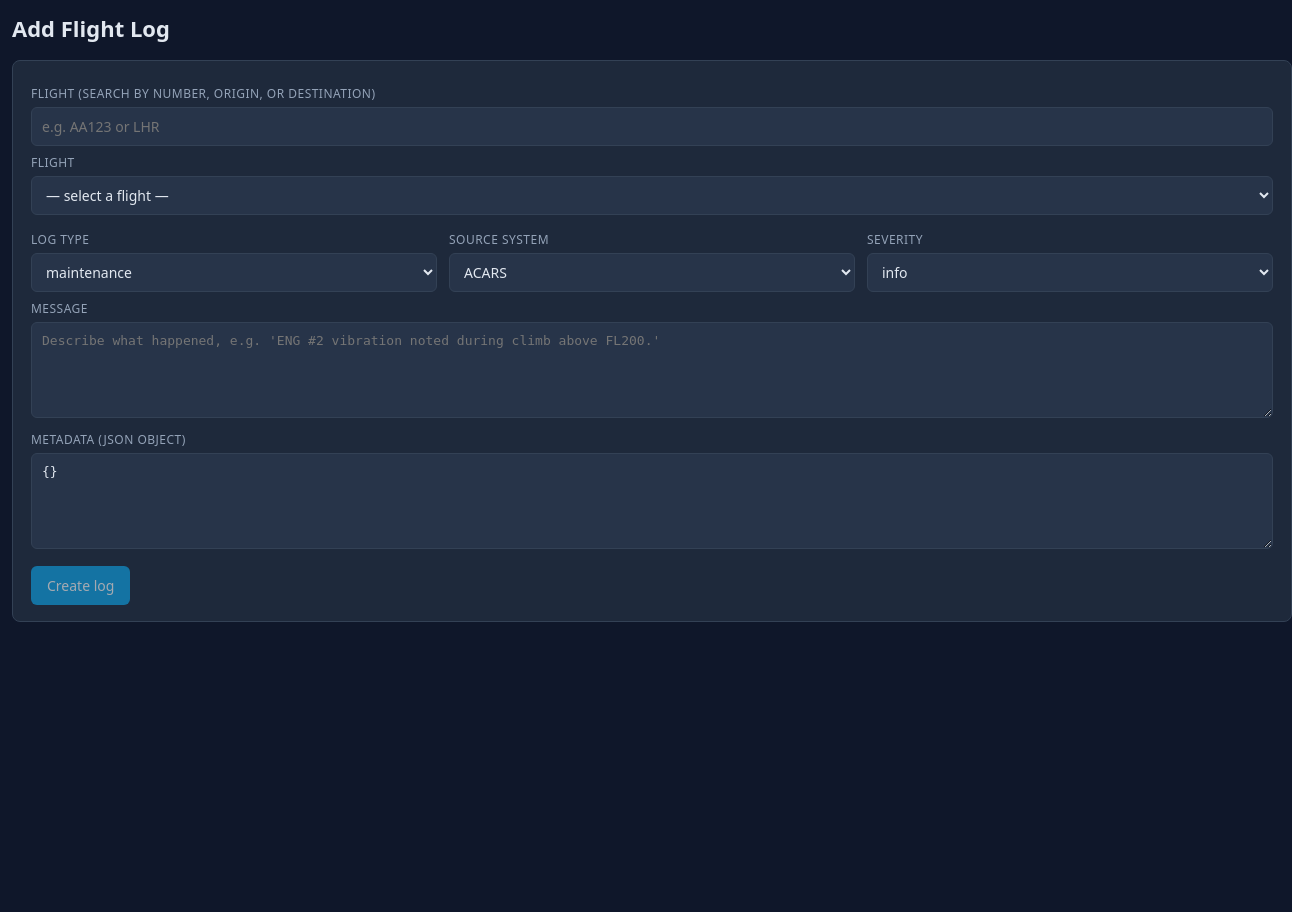
Test: AddLog › lists flights from /api/flights and submits a log to /api/logs
The image size is (1292, 912).
Select "#1 · BA001 · LHR → JFK · 1/1/2024, 8:00:00 AM" in the 1st dropdown at (652, 195), box [31,176,1273,215]
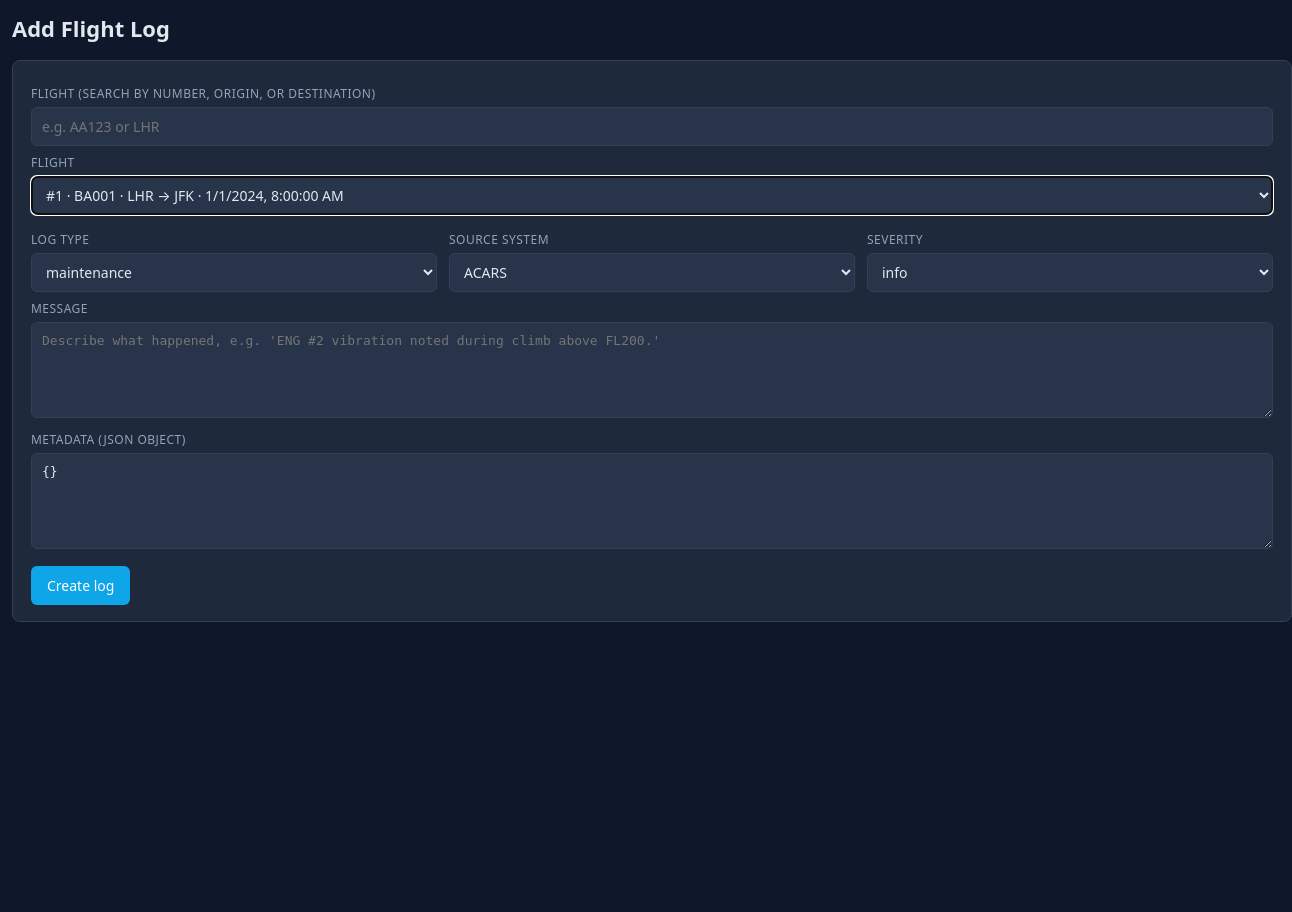
Type "a test" into the text box with placeholder "Describe what happened" at (652, 370), box [31,322,1273,418]
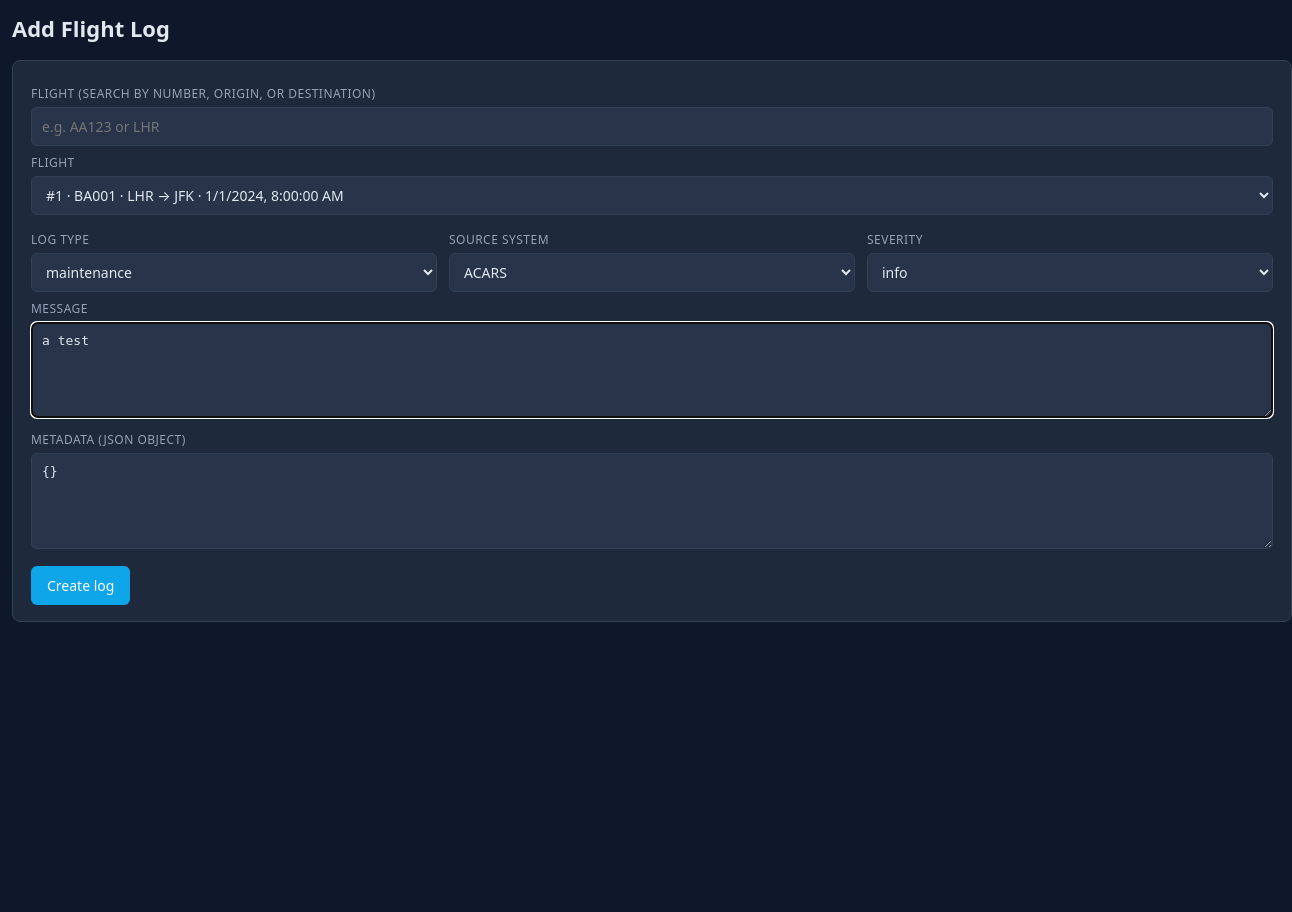
Click the button "Create log" at (81, 585), box [31,566,130,605]
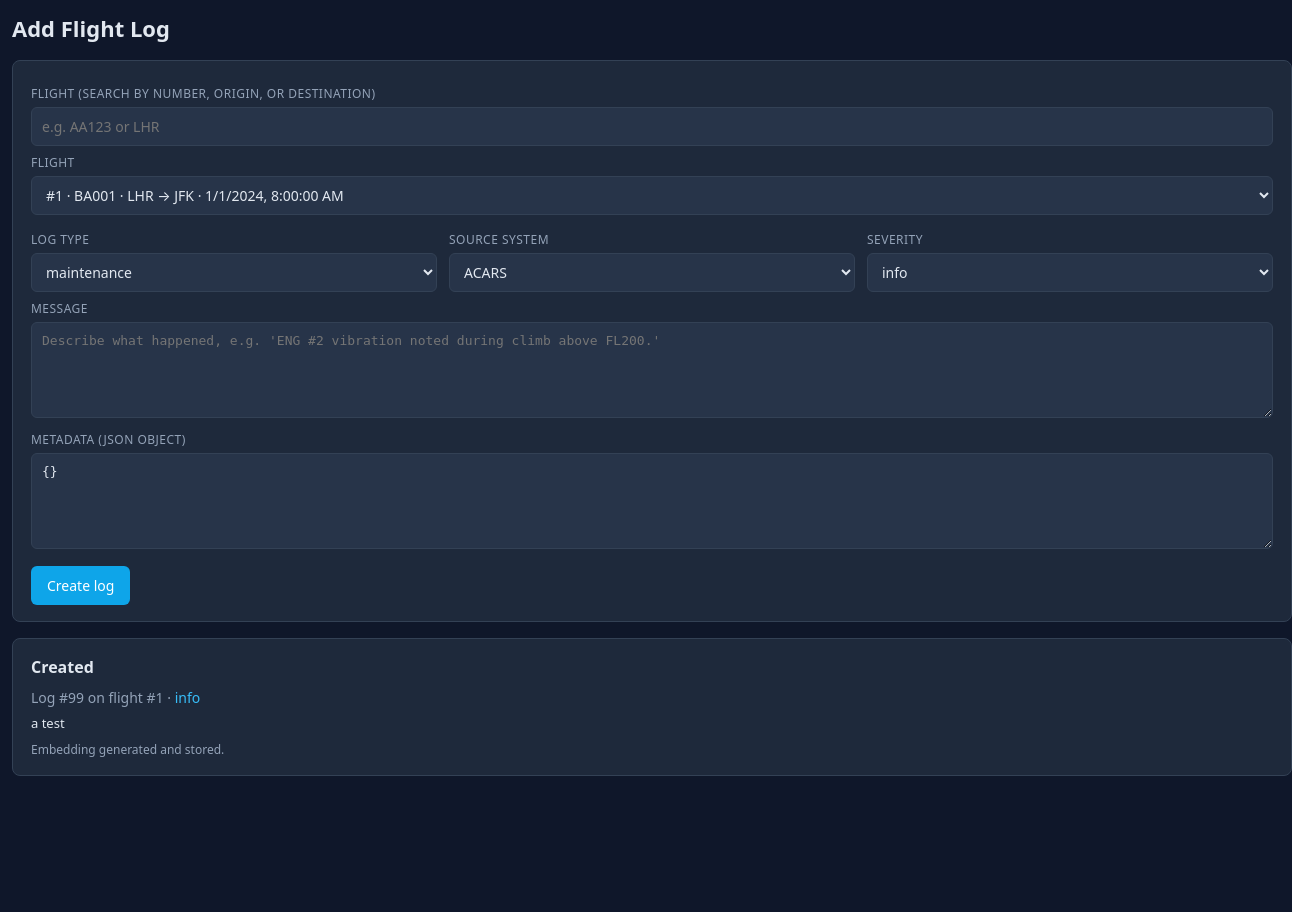
Check: the text "Log #99 on flight #1 · info" is shown, box [31,688,200,707]
